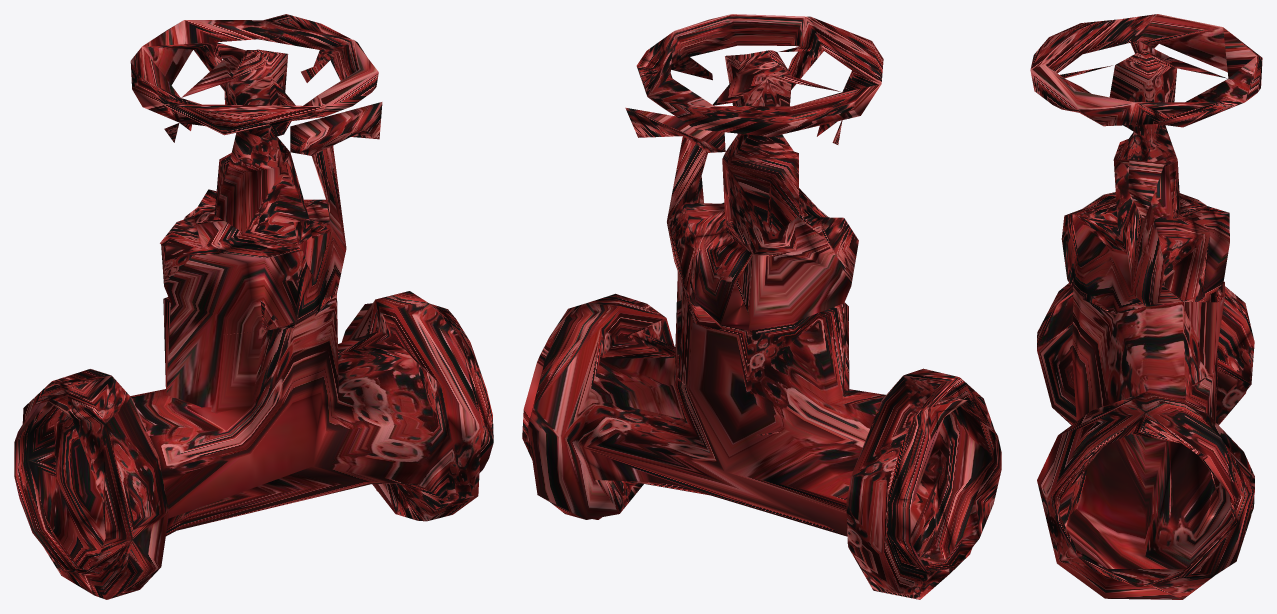
File: valve_wheel.glb
3 views of the same model, side by side, from view 1: azimuth 30°, elevation 25°; view 2: azimuth 150°, elevation 25°; view 3: azimuth 270°, elevation 25° (orthographic). The views are drawn at different scales.
Visible parts, largest first — view 1: valve_wheel; view 2: valve_wheel; view 3: valve_wheel.
Part boxes in pixels (box(x1,y1,x2,y2)): valve_wheel: box(14, 14, 493, 599); valve_wheel: box(522, 14, 1001, 599); valve_wheel: box(1030, 14, 1262, 599).
Bounding box in the file's own units: 0.8069 × 0.9898 × 0.4414.
Materials: 1 (1 with a texture image).
